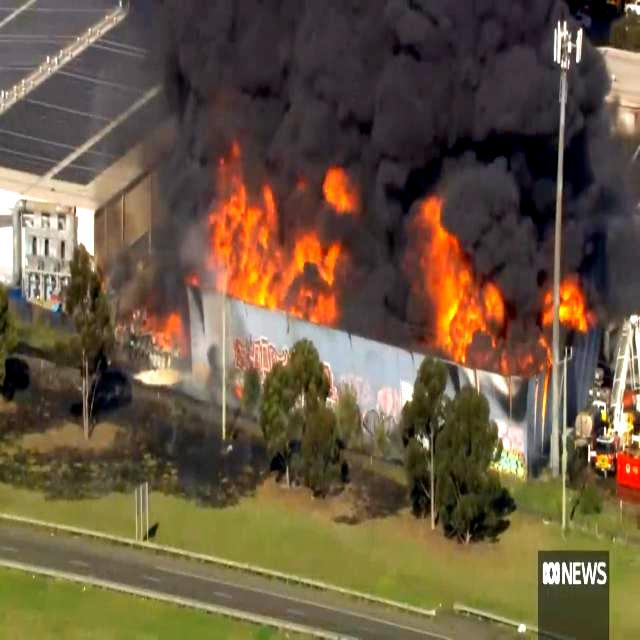fire: (200, 158, 350, 314), (415, 227, 505, 357), (544, 280, 592, 336)
